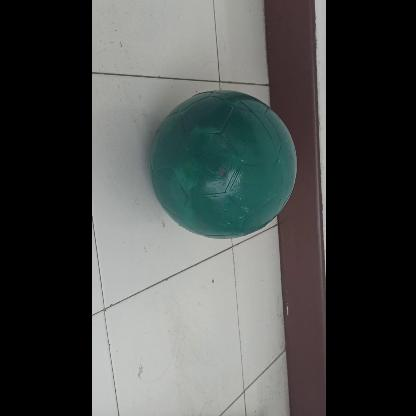green_ball: (150, 90, 298, 236)
